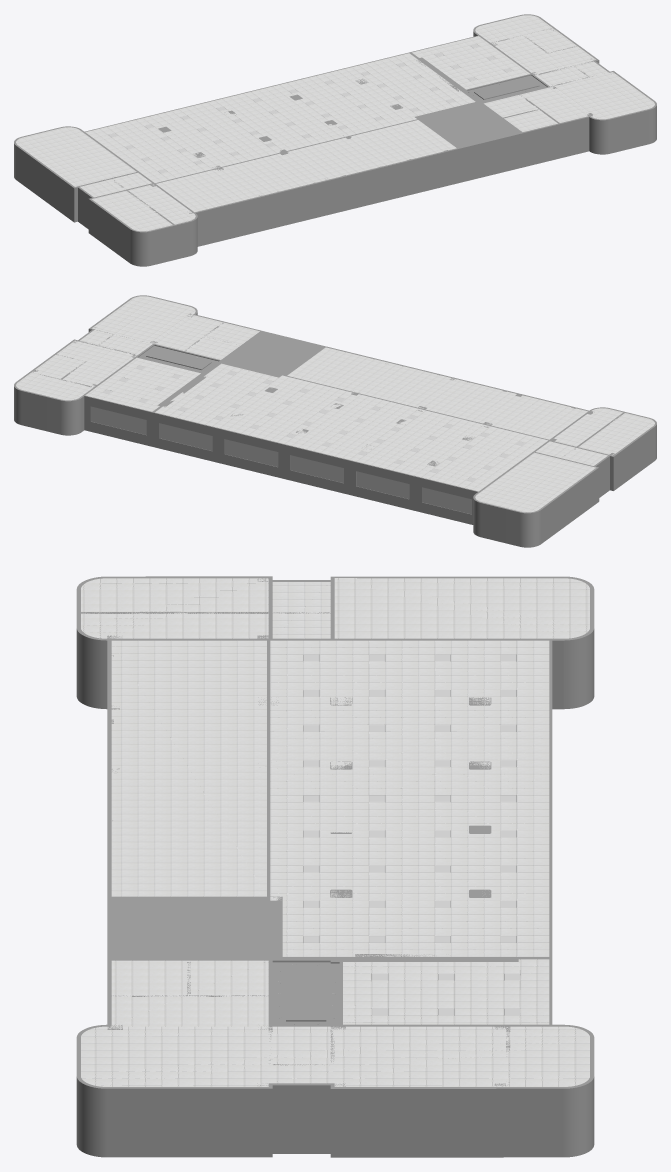
File: Build.fbx
The picture shows the model from 3 angles, top to bottom: view 1: azimuth 30°, elevation 25°; view 2: azimuth 150°, elevation 25°; view 3: azimuth 270°, elevation 25°; orthographic projection. The views are drawn at different scales.
Parts seen in each view (by area): view 1: DiaoDing, QiangTi, TopLight; view 2: DiaoDing, QiangTi, Wingdow, TopLight; view 3: DiaoDing, QiangTi, TopLight.
Boxes of the visible parts, left/top/right/bottom form: DiaoDing: left=16, top=15, right=654, bottom=231; QiangTi: left=14, top=14, right=656, bottom=266; TopLight: left=108, top=44, right=513, bottom=173; DiaoDing: left=16, top=296, right=654, bottom=512; QiangTi: left=14, top=295, right=656, bottom=547; Wingdow: left=90, top=406, right=471, bottom=514; TopLight: left=102, top=365, right=525, bottom=481; DiaoDing: left=81, top=578, right=589, bottom=1086; QiangTi: left=76, top=576, right=594, bottom=1157; TopLight: left=303, top=654, right=520, bottom=1015.
Bounding box in the file's own units: 4321 × 271 × 1845.
